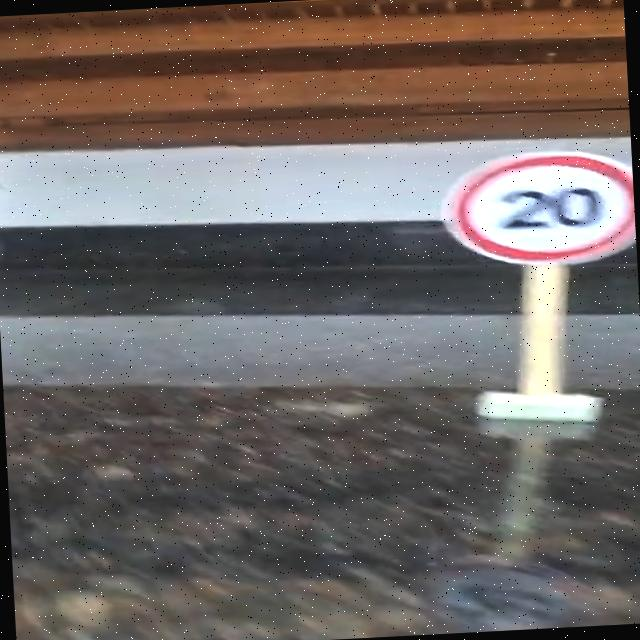Speed20: (432, 142, 638, 276)
